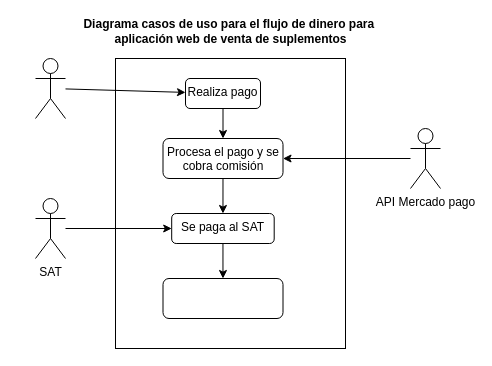
The diagram is 492 pixels wide and 366 high, and some of its shapes have lost their labels. Here are the shapes that lost their labels. From the top down, the centre of each, then its label:
At (x=50, y=88): "Usuario final".
At (x=222, y=298): "Se recibe utilidad".
